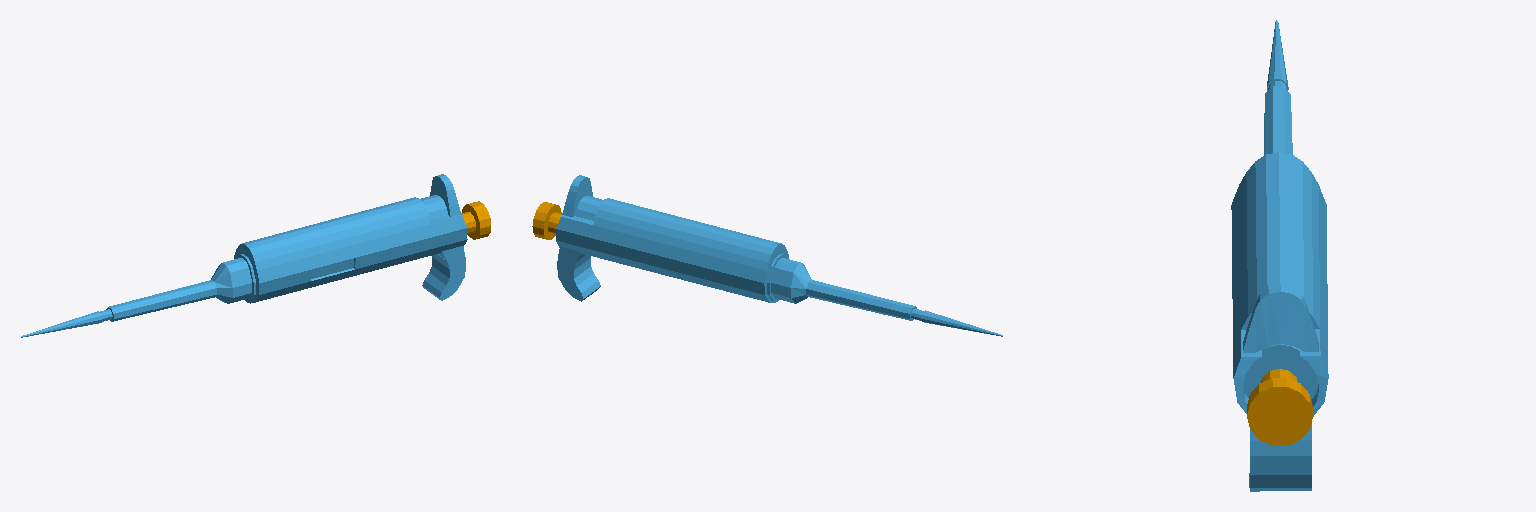
The robot description file, URDF, robot "pipette_good":
<?xml version="1.0" encoding="UTF-8"?>
<robot name="pipette_good">
  <joint name="PrismaticJoint" type="prismatic">
    <origin xyz="0.0276701 0. 0. " rpy="0. 0. 0."/>
    <parent link="root"/>
    <child link="pipette_button_link"/>
    <axis xyz="1. 0. 0."/>
    <limit lower="-0.002" upper="0.00467" effort="10000000." velocity="0."/>
  </joint>
  <link name="pipette_button_link">
    <inertial>
      <origin xyz="-0.0006701 0. 0. " rpy="0. 0. 0."/>
      <mass value="0.003"/>
      <inertia ixx="0.0000001" ixy="0." ixz="-0." iyy="0.0000014" iyz="0." izz="0.0000013"/>
    </inertial>
    <visual>
      <origin xyz="-0.0006701 0. 0. " rpy="0. 0. 0."/>
      <geometry>
        <mesh filename="meshes/pipette_button.obj" scale="1. 1. 1."/>
      </geometry>
    </visual>
    <collision>
      <origin xyz="-0.0006701 0. 0. " rpy="0. 0. 0."/>
      <geometry>
        <mesh filename="meshes/pipette_button_acd.obj" scale="1. 1. 1."/>
      </geometry>
    </collision>
  </link>
  <link name="root">
    <inertial>
      <origin xyz="0. 0. 0." rpy="0. 0. 0."/>
      <mass value="0.01"/>
      <inertia ixx="0.0000001" ixy="0." ixz="-0." iyy="0.0000014" iyz="0." izz="0.0000013"/>
    </inertial>
    <visual>
      <origin xyz="0. 0. 0." rpy="0. 0. 0."/>
      <geometry>
        <mesh filename="meshes/pipette_tip.obj" scale="1. 1. 1."/>
      </geometry>
    </visual>
    <collision>
      <origin xyz="0. 0. 0." rpy="0. 0. 0."/>
      <geometry>
        <mesh filename="meshes/pipette_tip_acd.obj" scale="1. 1. 1."/>
      </geometry>
    </collision>
  </link>
</robot>

--- What the picture shows (computed from the rendered views, not written in the file) ---
The picture shows the robot from 3 angles, left to right: view 1: azimuth 30°, elevation 25°; view 2: azimuth 150°, elevation 25°; view 3: azimuth 270°, elevation 25°; orthographic projection.
Robot: pipette_good — 2 links, 1 joints (1 prismatic); root link root; default pose: every joint at zero.
Links seen in each view (by area): view 1: root, pipette_button_link; view 2: root, pipette_button_link; view 3: root, pipette_button_link.
Boxes of the visible links, x1,y1,x2,y2 form: root: [21, 174, 467, 337]; pipette_button_link: [461, 201, 490, 239]; root: [556, 175, 1002, 336]; pipette_button_link: [532, 202, 562, 239]; root: [1231, 20, 1328, 491]; pipette_button_link: [1247, 369, 1312, 445].
Size in the robot's own frame: 0.0903 by 0.0092 by 0.0216 metres.
2 mesh visuals loaded from 2 distinct referenced files (2 OBJ).
